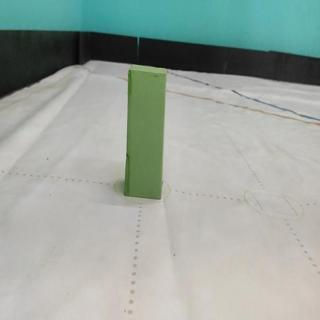greenbox: (122, 65, 169, 202)
